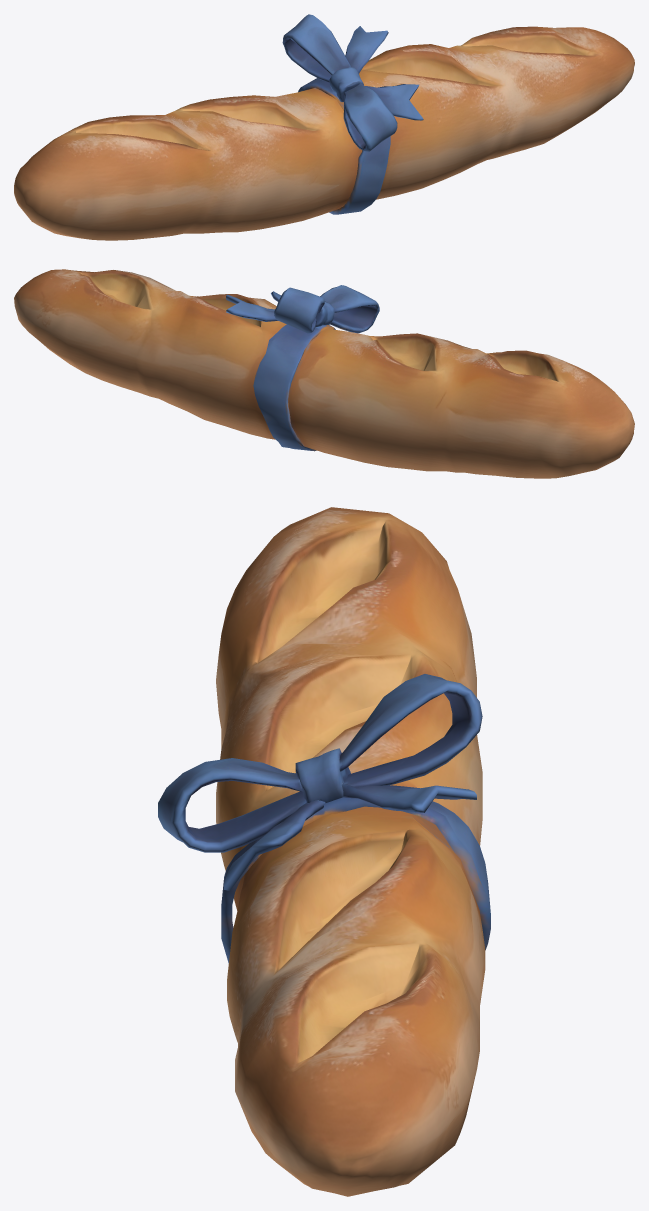
Rendered from duelist_baguette_tripo.glb.
3 views of the same model, one above another, from view 1: azimuth 30°, elevation 25°; view 2: azimuth 150°, elevation 25°; view 3: azimuth 270°, elevation 25° (orthographic). The views are drawn at different scales.
Visible parts, largest first — view 1: tripo_node_ac9a39af-a313-4580-938f-9c2afd51a542; view 2: tripo_node_ac9a39af-a313-4580-938f-9c2afd51a542; view 3: tripo_node_ac9a39af-a313-4580-938f-9c2afd51a542.
Part boxes in pixels (x1=…): tripo_node_ac9a39af-a313-4580-938f-9c2afd51a542: x1=14, y1=14, x2=634, y2=240; tripo_node_ac9a39af-a313-4580-938f-9c2afd51a542: x1=14, y1=269, x2=634, y2=478; tripo_node_ac9a39af-a313-4580-938f-9c2afd51a542: x1=158, y1=507, x2=490, y2=1196.
Bounding box in the file's own units: 0.998 × 0.2754 × 0.2363.
1 material, 1 textured.
